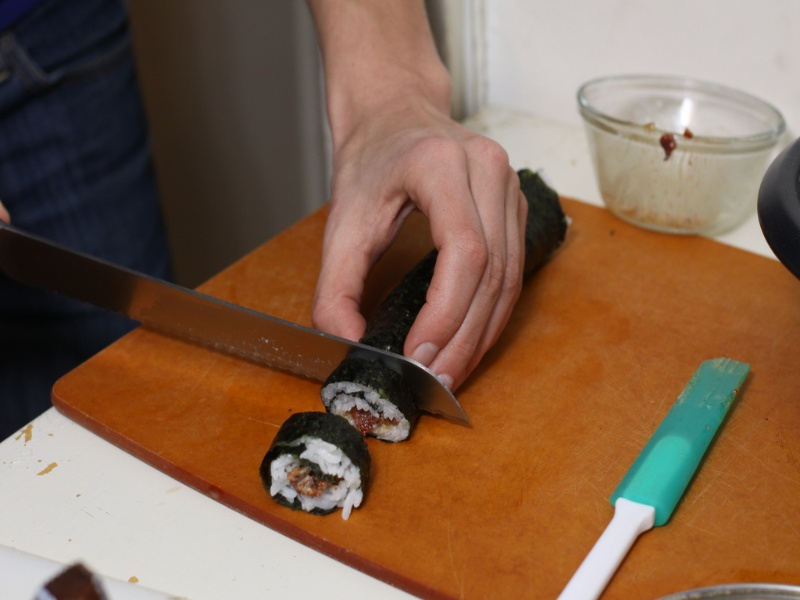knife: (1, 218, 478, 438)
